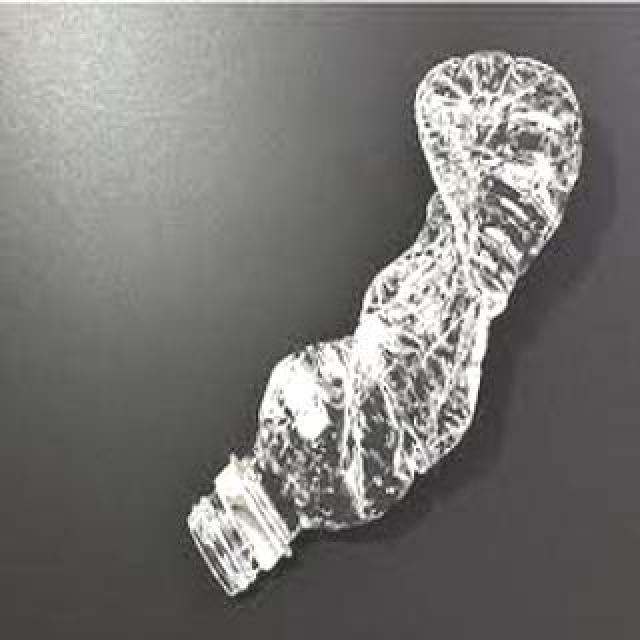Pet_Bottle: (185, 49, 607, 601)
